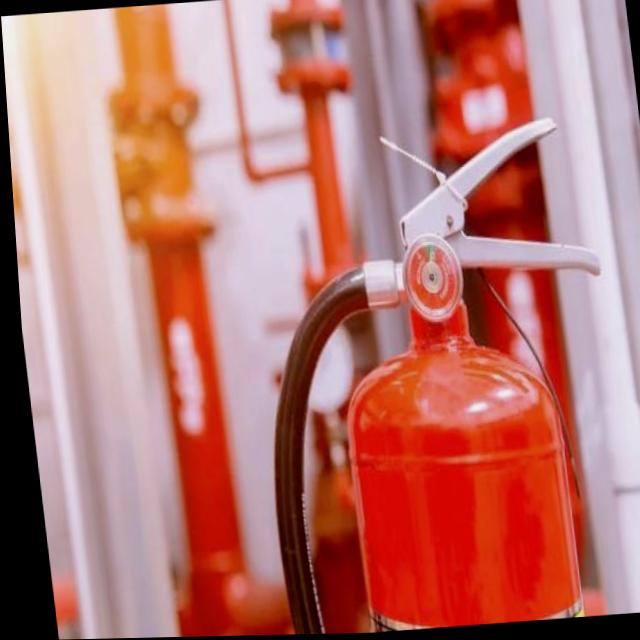FireExtinguisher: (224, 110, 640, 636)
